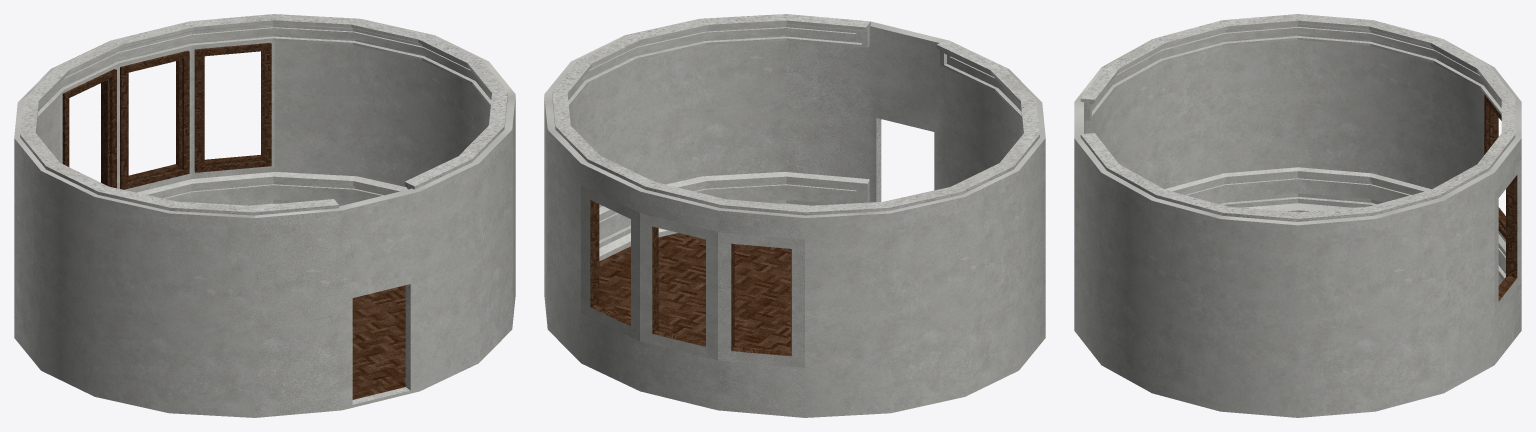
File: DespachoOval.fbx
3 renders of one model, left to right at view 1: azimuth 30°, elevation 25°; view 2: azimuth 150°, elevation 25°; view 3: azimuth 270°, elevation 25°, orthographic. The views are drawn at different scales.
Visible parts, largest first — view 1: Cylinder012; view 2: Cylinder012; view 3: Cylinder012.
Part boxes in pixels (x1,y1,x2,y2): Cylinder012: [14, 14, 515, 417]; Cylinder012: [544, 14, 1045, 417]; Cylinder012: [1074, 14, 1521, 417].
Size of the model in its own units: 554 by 241 by 497.
